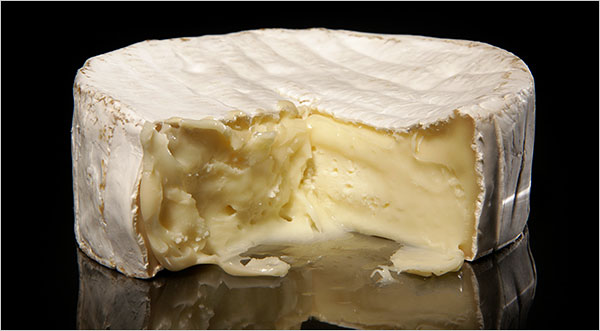camembert: (68, 27, 536, 275)
